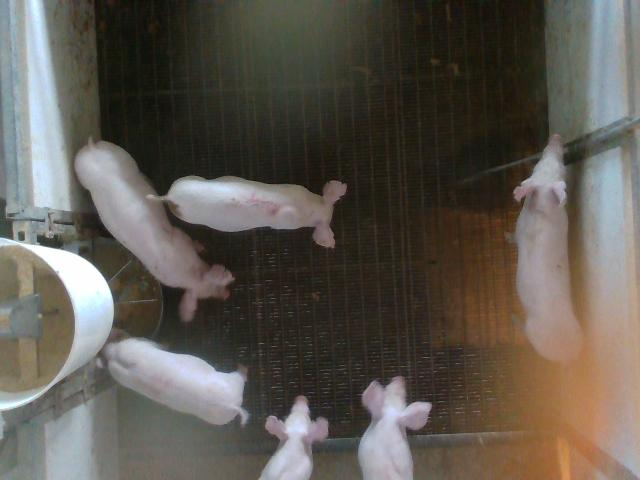pig-4: (95, 328, 249, 425)
pig-5: (146, 176, 346, 247)
